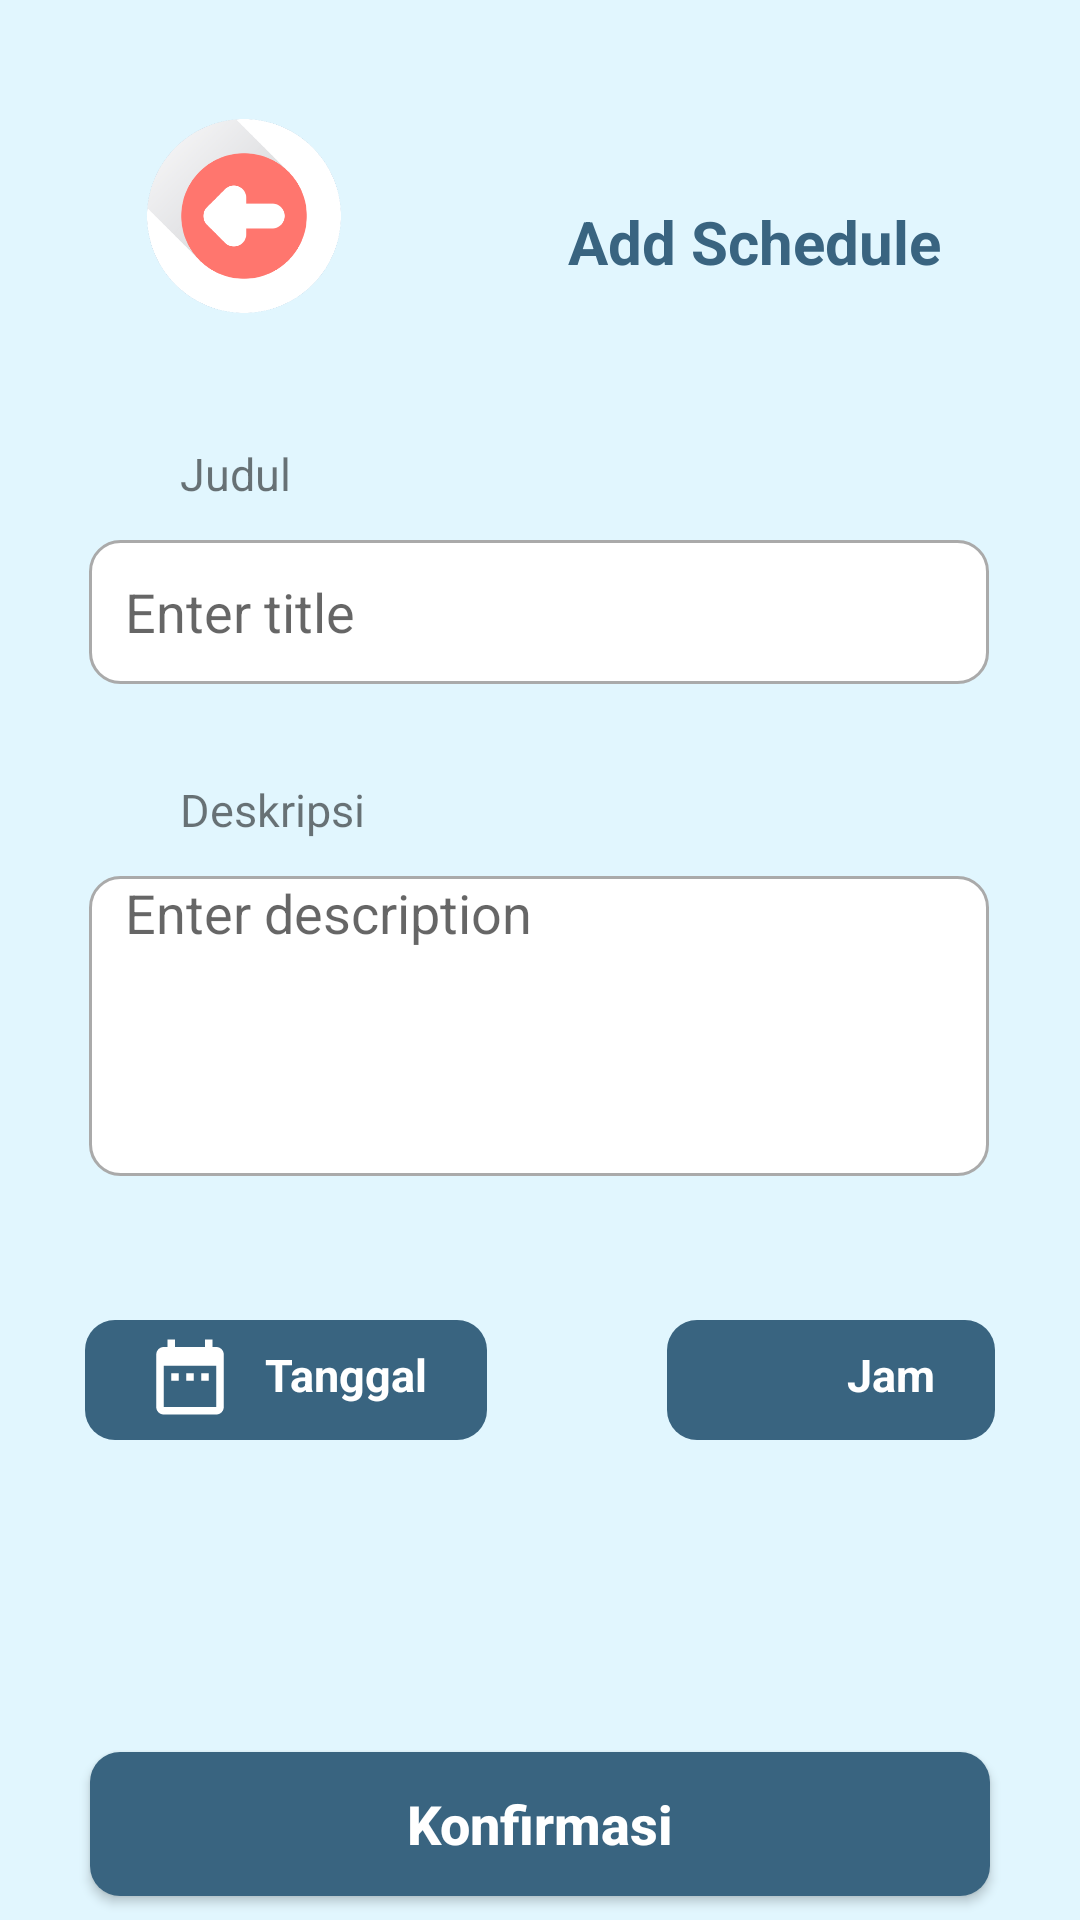

Named icons in this screenshot (1080*1920) and their centers, [x,y]:
back: [244,216]
date: [190,1377]
